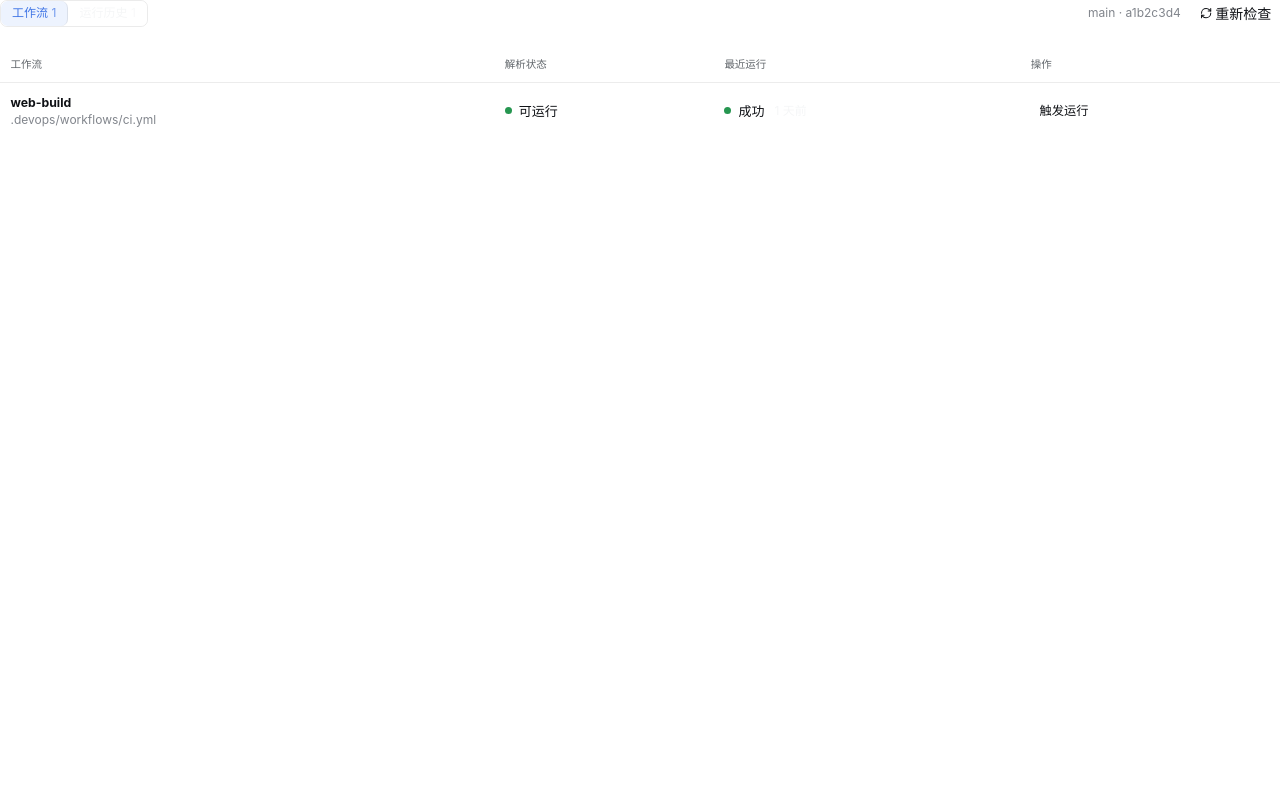
it: pipelines-page › 开发者从合法工作流打开触发对话框并提交幂等触发
The width and height of the screenshot is (1280, 800).
Click the button "触发运行" at point(1064, 111), box x1=1031 y1=99 x2=1097 y2=123
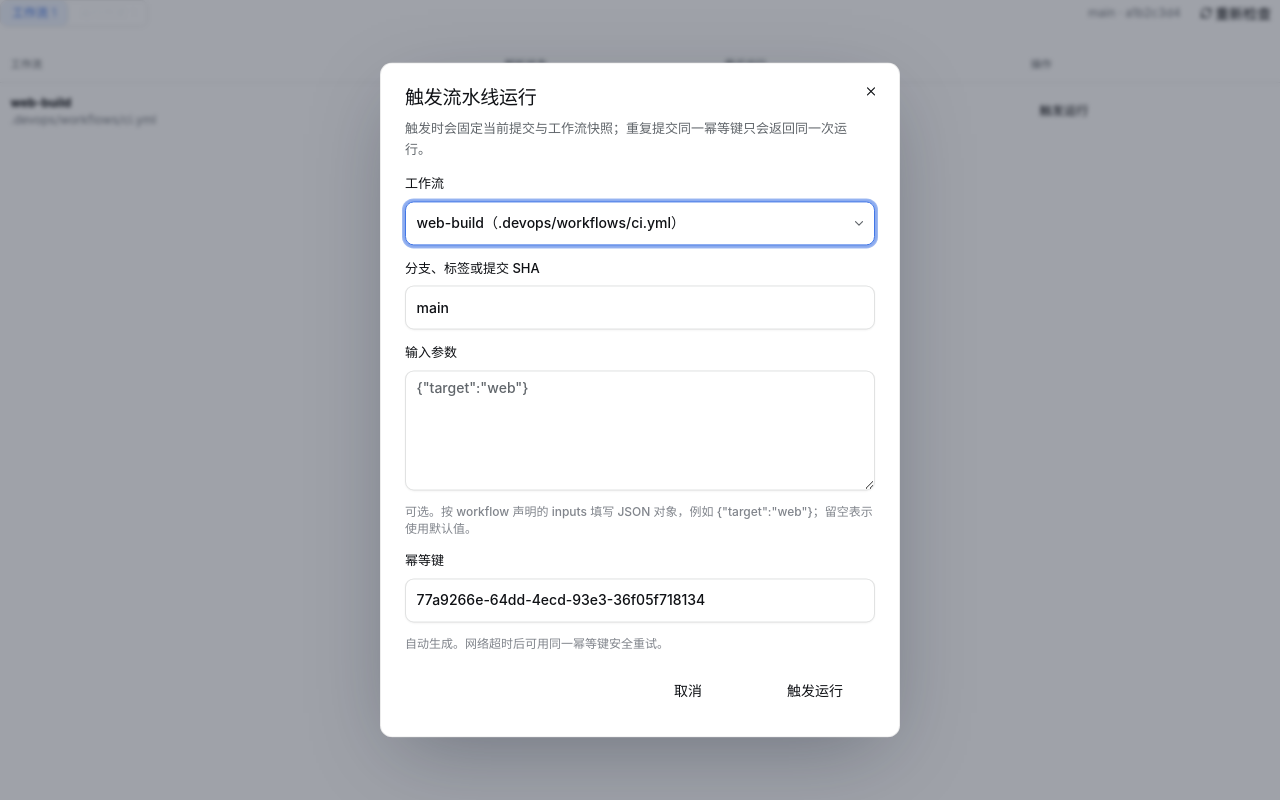
Expected: the heading "触发流水线运行" is shown, x1=405 y1=86 x2=537 y2=109
Expected: the field labelled "分支、标签或提交 SHA" holds "main", x1=405 y1=286 x2=875 y2=330
Click the button "触发运行" at point(815, 691), box x1=755 y1=669 x2=875 y2=713
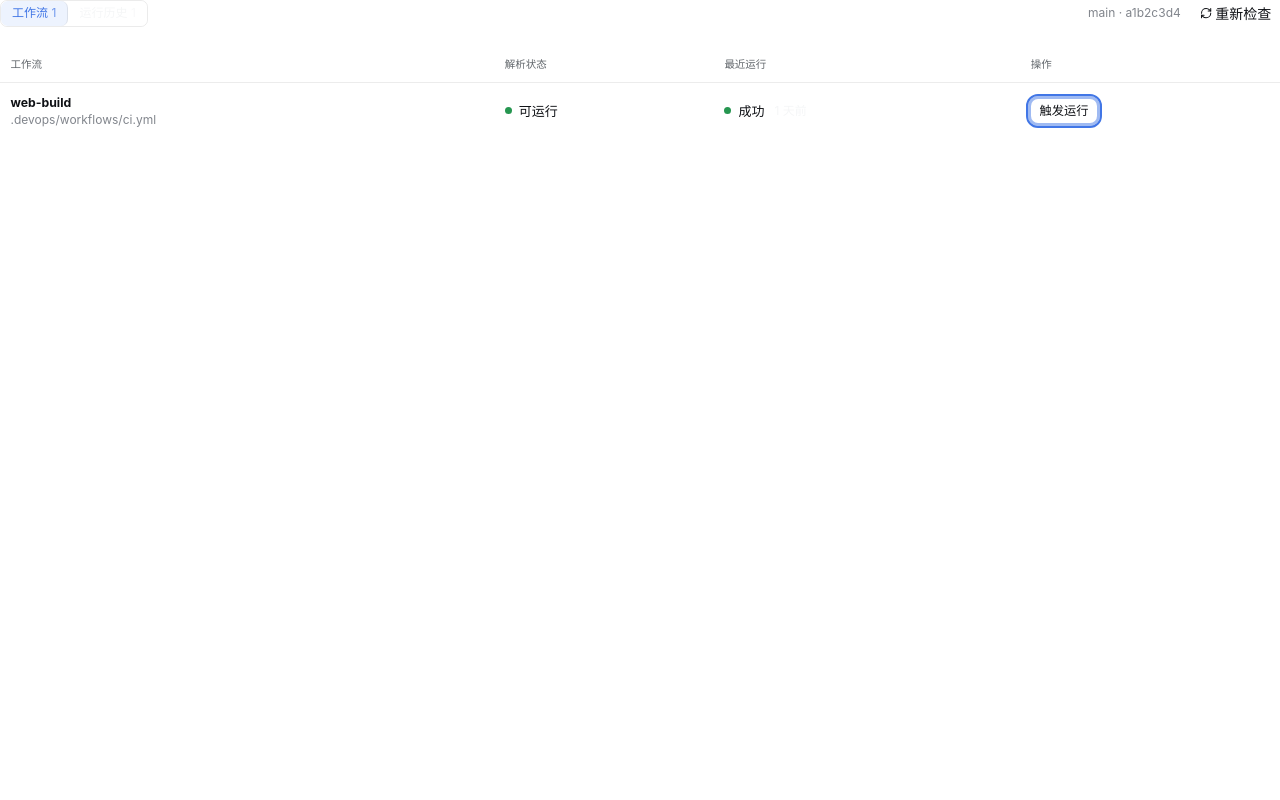
Expected: the dialog is gone
